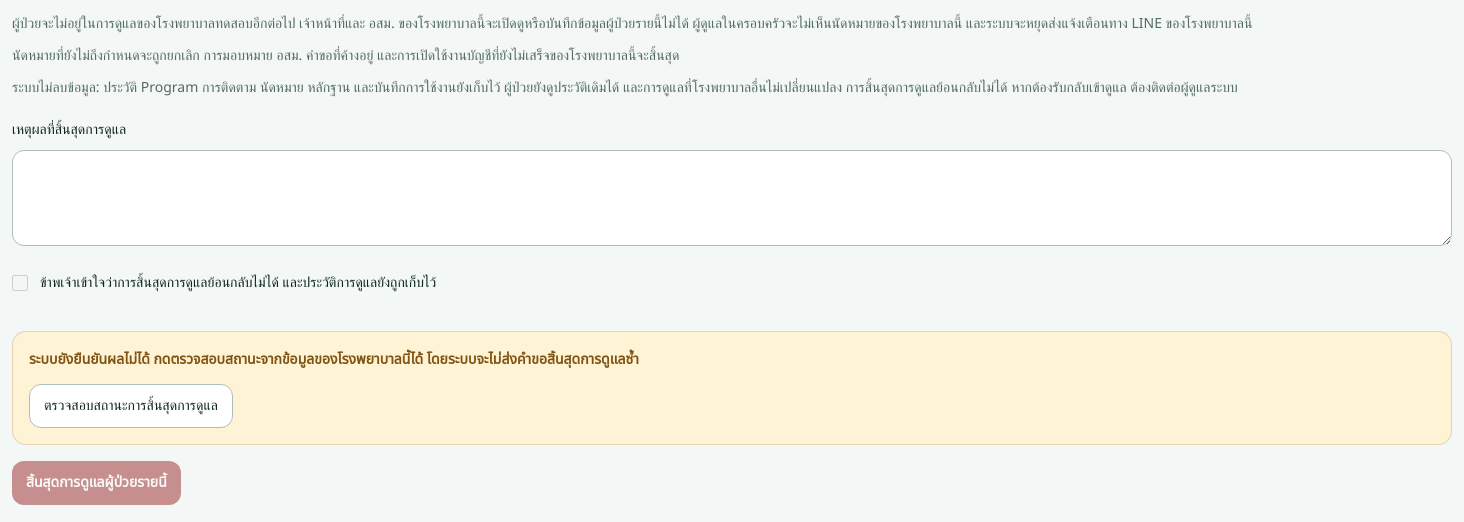
Test: PatientCareEndForm unknown outcome recovery › offers the exact Hospital directory after confirming the relationship ended
Click the button "ตรวจสอบสถานะการสิ้นสุดการดูแล" at (131,406), box top-left (29, 384), bottom-right (233, 428)
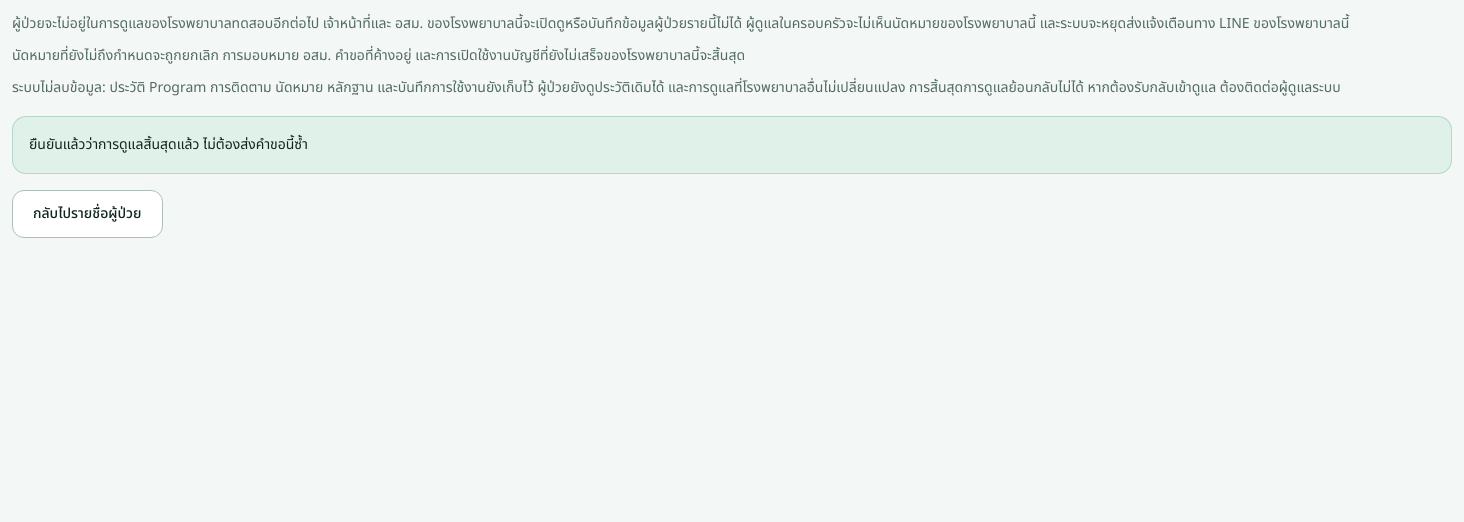
Result: the text "ยืนยันแล้วว่าการดูแลสิ้นสุดแล้ว" is shown at top-left (29, 134), bottom-right (308, 155)
Result: the link "กลับไปรายชื่อผู้ป่วย" is shown at top-left (12, 190), bottom-right (162, 238)
Result: the submit button is gone
